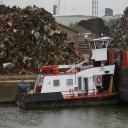tugboat: (15, 33, 120, 108)
